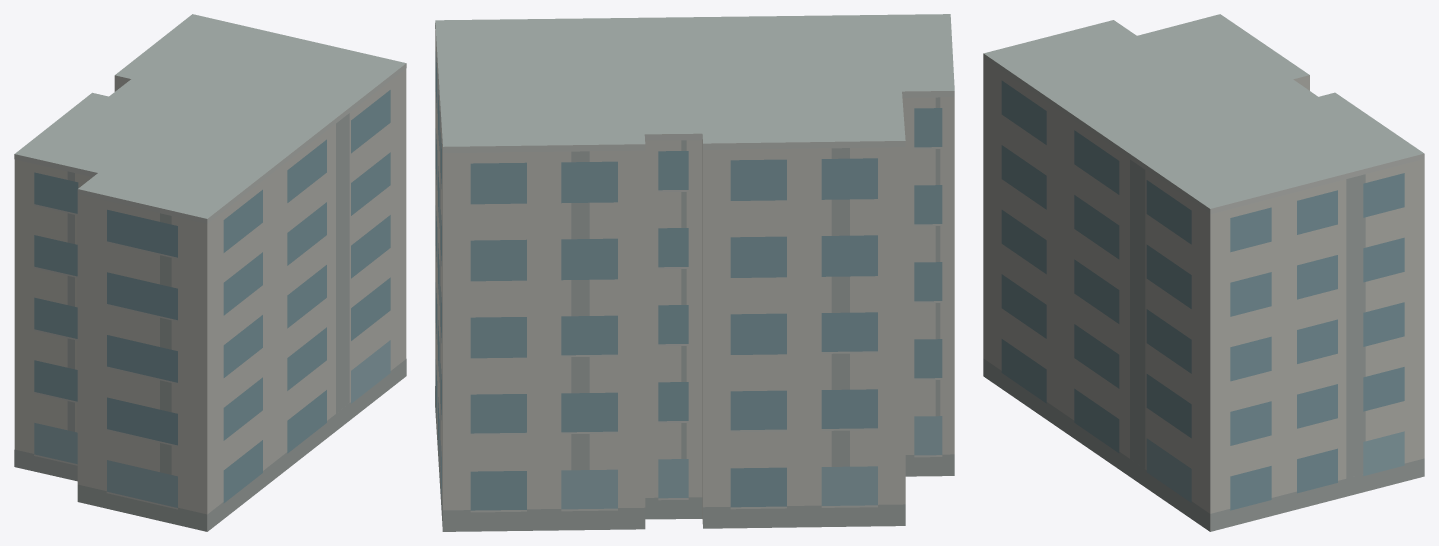
File: survey-upis-32851254.glb
3 renders of one model, left to right at view 1: azimuth 30°, elevation 25°; view 2: azimuth 150°, elevation 25°; view 3: azimuth 270°, elevation 25°, orthographic. The views are drawn at different scales.
Parts seen in each view (by area): view 1: survey-upis-32851254.tmp; view 2: survey-upis-32851254.tmp; view 3: survey-upis-32851254.tmp.
Boxes of the visible parts, left/top/right/bottom form: survey-upis-32851254.tmp: left=14, top=14, right=406, bottom=531; survey-upis-32851254.tmp: left=435, top=14, right=954, bottom=531; survey-upis-32851254.tmp: left=983, top=14, right=1424, bottom=531.
Bounding box in the file's own units: 18.85 × 14.55 × 18.02.
